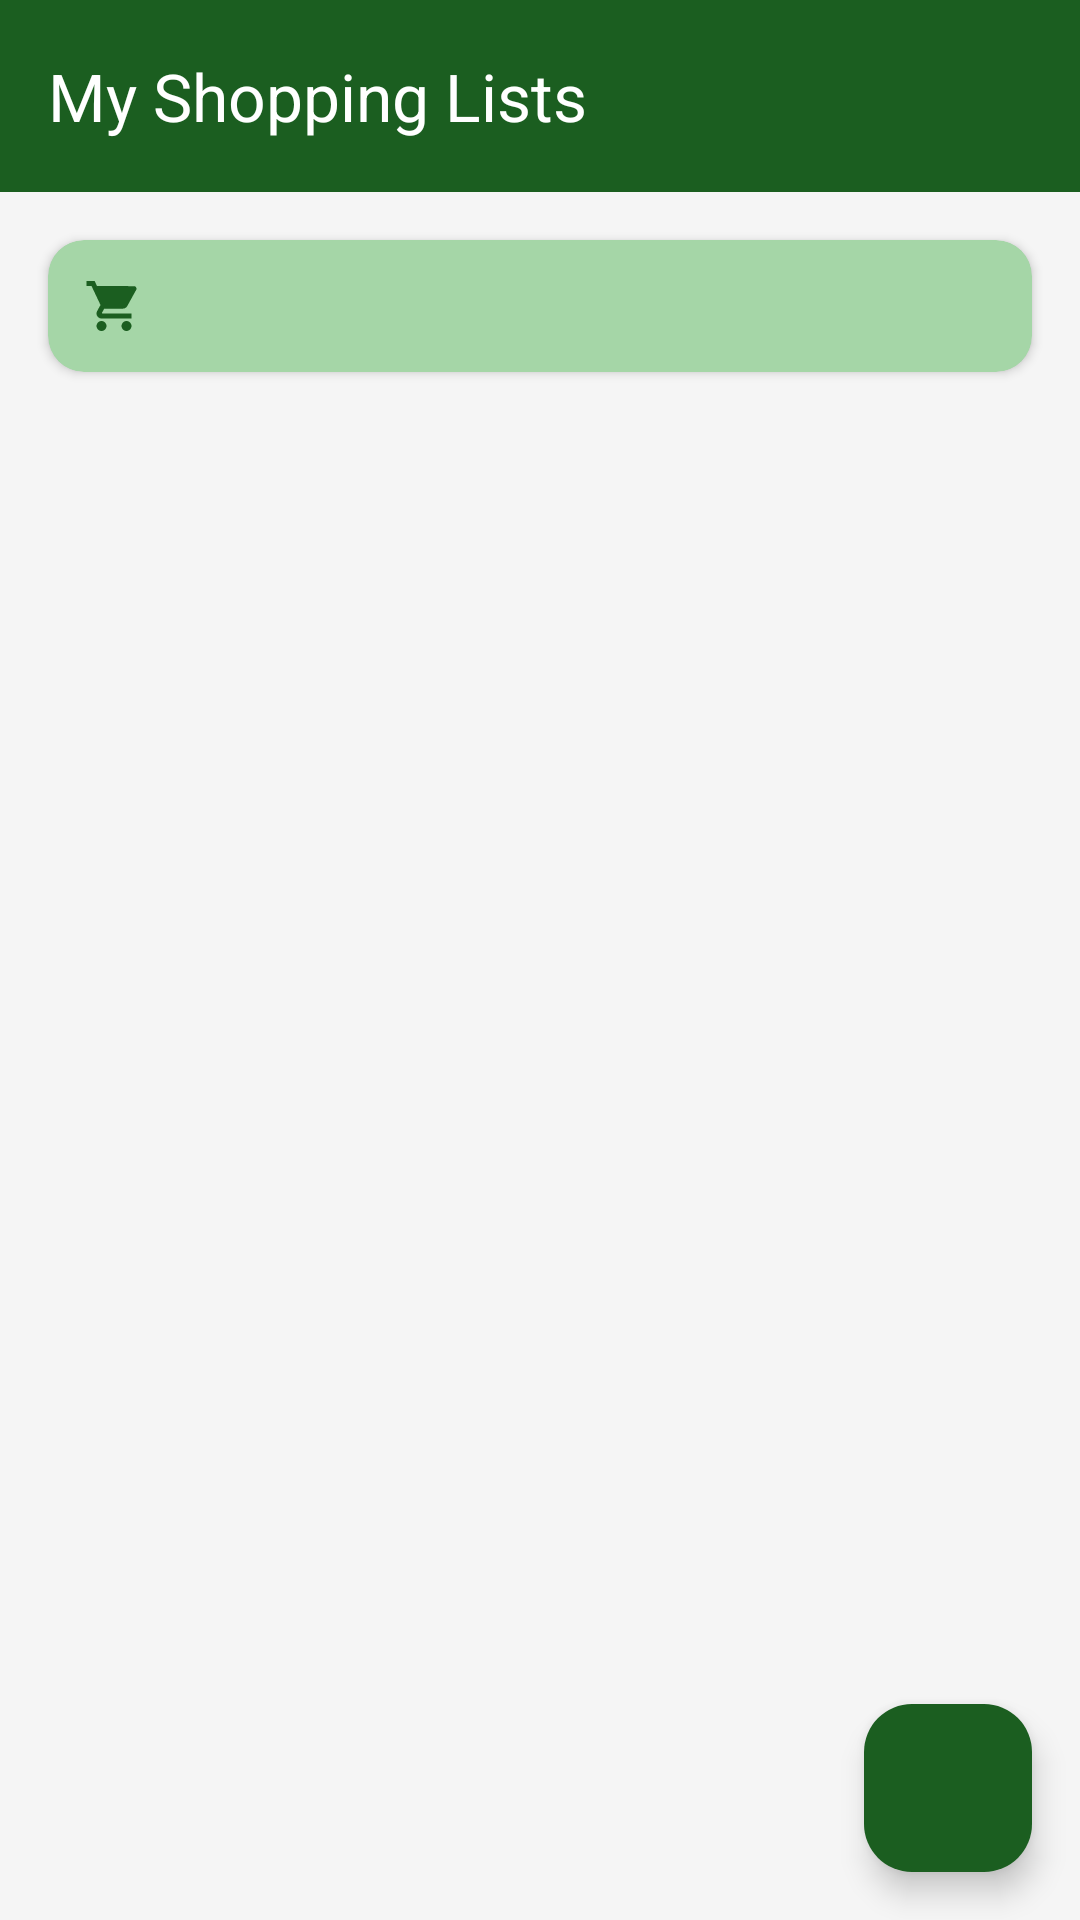

Locate icon controls on the screen. Image size 1080px x 1920px, boxes as (x1, y1, x2, y2).
cart: (86, 281, 137, 331)
